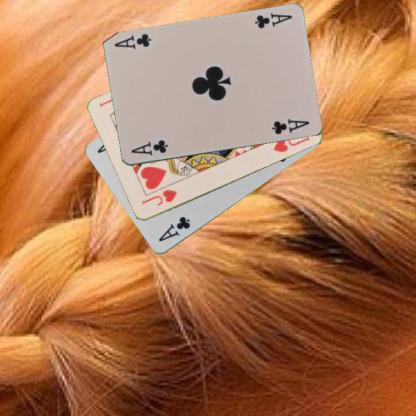Ac: (155, 214, 192, 243), (128, 137, 170, 157), (252, 10, 293, 30)
Jh: (138, 187, 178, 208)
